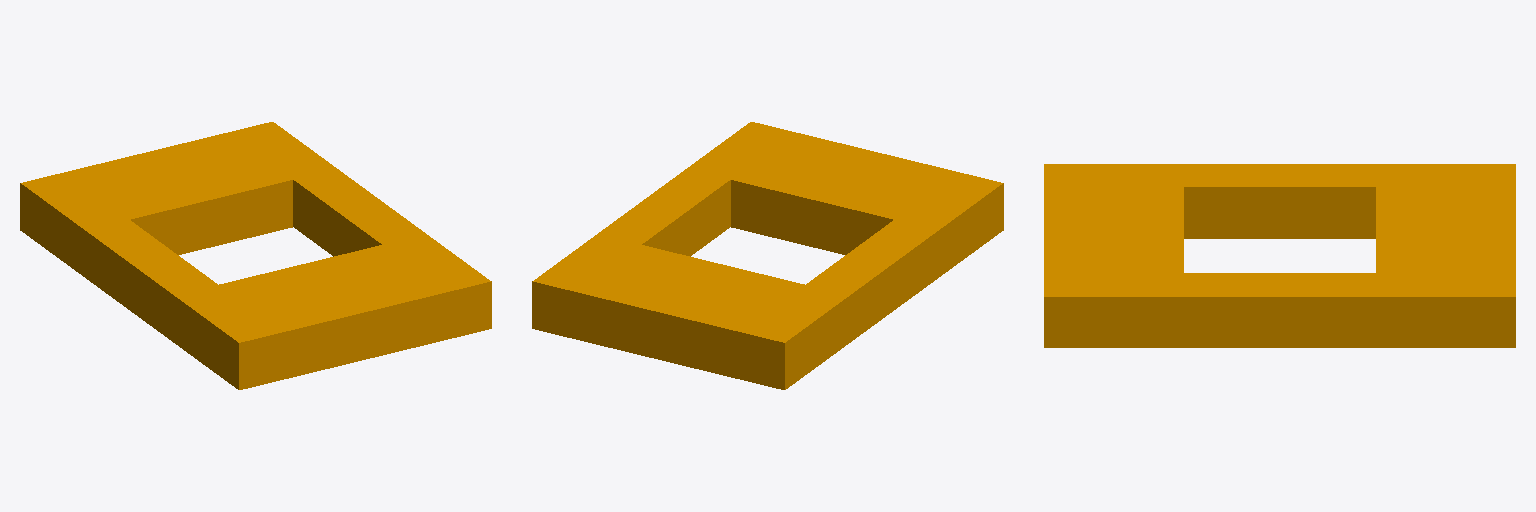
The robot description file, URDF, robot "factory_rectangular_hole_16mm":
<?xml version="1.0"?>
<robot name="factory_rectangular_hole_16mm">
    <link name="factory_rectangular_hole_16mm">
        <visual>
            <geometry>
                <mesh filename="../mesh/factory_insertion/factory_square_hole_32mm_subdiv_3x.obj"/>
            </geometry>
        </visual>
        <collision>
            <geometry>
                <mesh filename="../mesh/factory_insertion/factory_square_hole_32mm_subdiv_3x.obj"/>
            </geometry>
            <sdf resolution="256" />
        </collision>
    </link>
</robot>

--- Render facts (derived) ---
Views: 3 orthographic renders of the robot side by side, from view 1: azimuth 30°, elevation 25°; view 2: azimuth 150°, elevation 25°; view 3: azimuth 270°, elevation 25°.
Model factory_rectangular_hole_16mm with 1 links and 0 joints (none), rooted at factory_rectangular_hole_16mm, posed every joint at zero.
Links seen in each view (by area): view 1: factory_rectangular_hole_16mm; view 2: factory_rectangular_hole_16mm; view 3: factory_rectangular_hole_16mm.
Boxes of the visible links, box(x1,y1,x2,y2) form: factory_rectangular_hole_16mm: box(20, 122, 491, 389); factory_rectangular_hole_16mm: box(532, 122, 1003, 389); factory_rectangular_hole_16mm: box(1044, 164, 1515, 347).
Bounding box of the posed robot: 0.05 × 0.075 × 0.009 m (x, y, z).
1 mesh visuals loaded from 1 distinct referenced files (1 OBJ).
